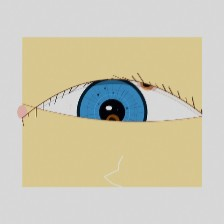foreign_body_visible: (91, 104, 135, 139)
